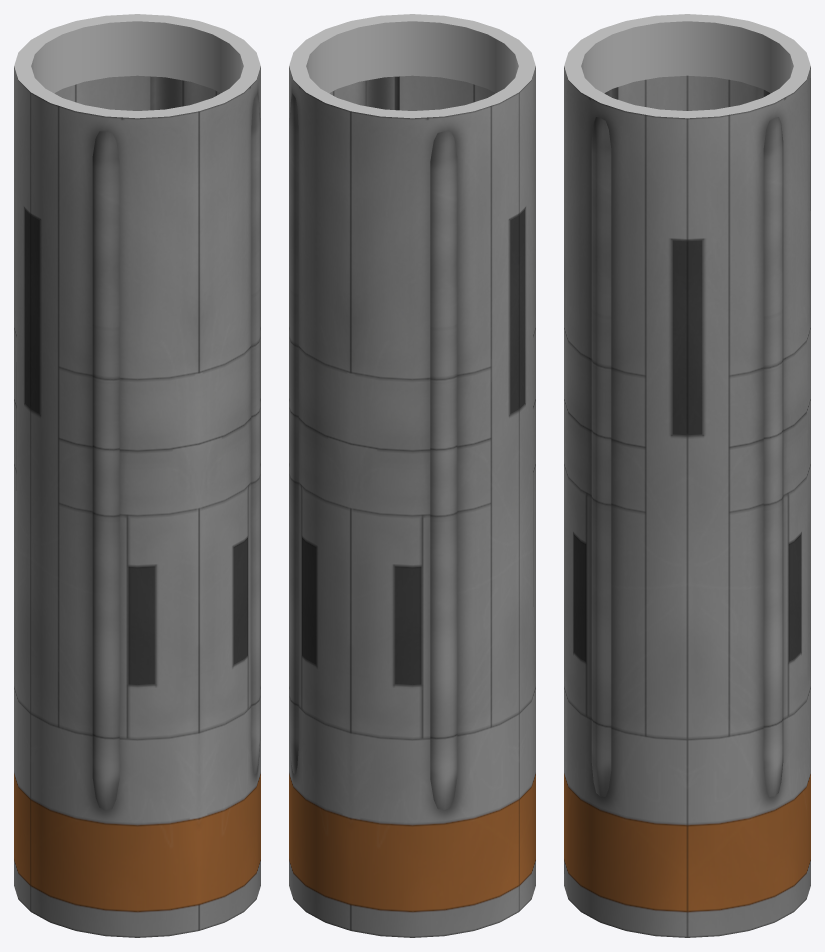
Rendered from Titan4_FirstStage2.dae.
The picture shows the model from 3 angles, left to right: view 1: azimuth 30°, elevation 25°; view 2: azimuth 150°, elevation 25°; view 3: azimuth 270°, elevation 25°; orthographic projection.
Parts seen in each view (by area): view 1: Tank, FuelTankRib19, Rims, FuelTankRib19_ncl1_1; view 2: Tank, FuelTankRib19_ncl1_3, Rims, FuelTankRib19_ncl1_2; view 3: Tank, Rims, FuelTankRib19_ncl1_1, FuelTankRib19_ncl1_2.
Part boxes in pixels (bbox=[...]): Tank: bbox=[14, 66, 260, 937]; FuelTankRib19: bbox=[92, 131, 119, 809]; Rims: bbox=[14, 14, 260, 118]; FuelTankRib19_ncl1_1: bbox=[251, 93, 260, 774]; Tank: bbox=[289, 66, 535, 937]; FuelTankRib19_ncl1_3: bbox=[430, 131, 457, 809]; Rims: bbox=[289, 14, 535, 118]; FuelTankRib19_ncl1_2: bbox=[289, 93, 298, 774]; Tank: bbox=[564, 66, 810, 937]; Rims: bbox=[564, 14, 810, 118]; FuelTankRib19_ncl1_1: bbox=[591, 117, 611, 796]; FuelTankRib19_ncl1_2: bbox=[763, 117, 783, 796].
Size of the model in its own units: 1.88 by 6.87 by 1.88.
